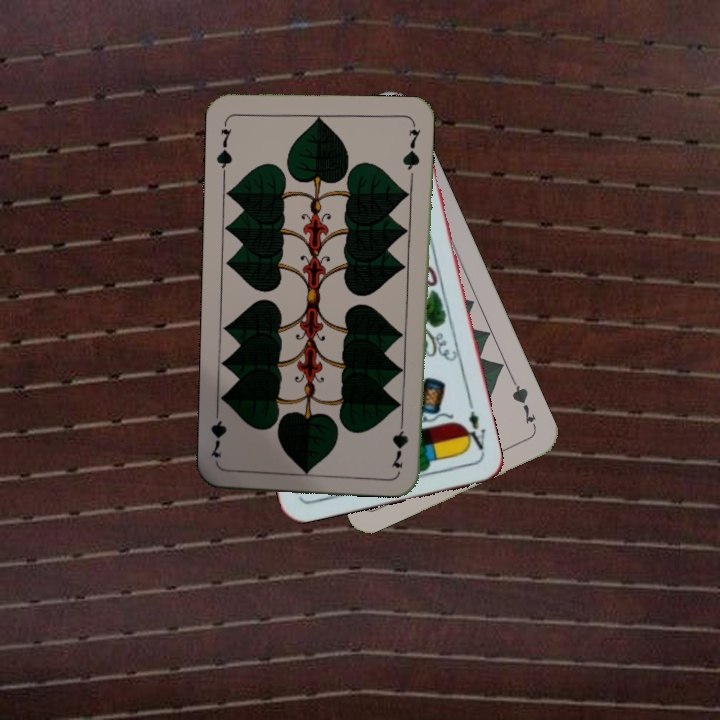EA: (459, 399, 488, 457)
G7: (508, 377, 540, 433), (213, 117, 235, 176), (390, 411, 411, 470)
